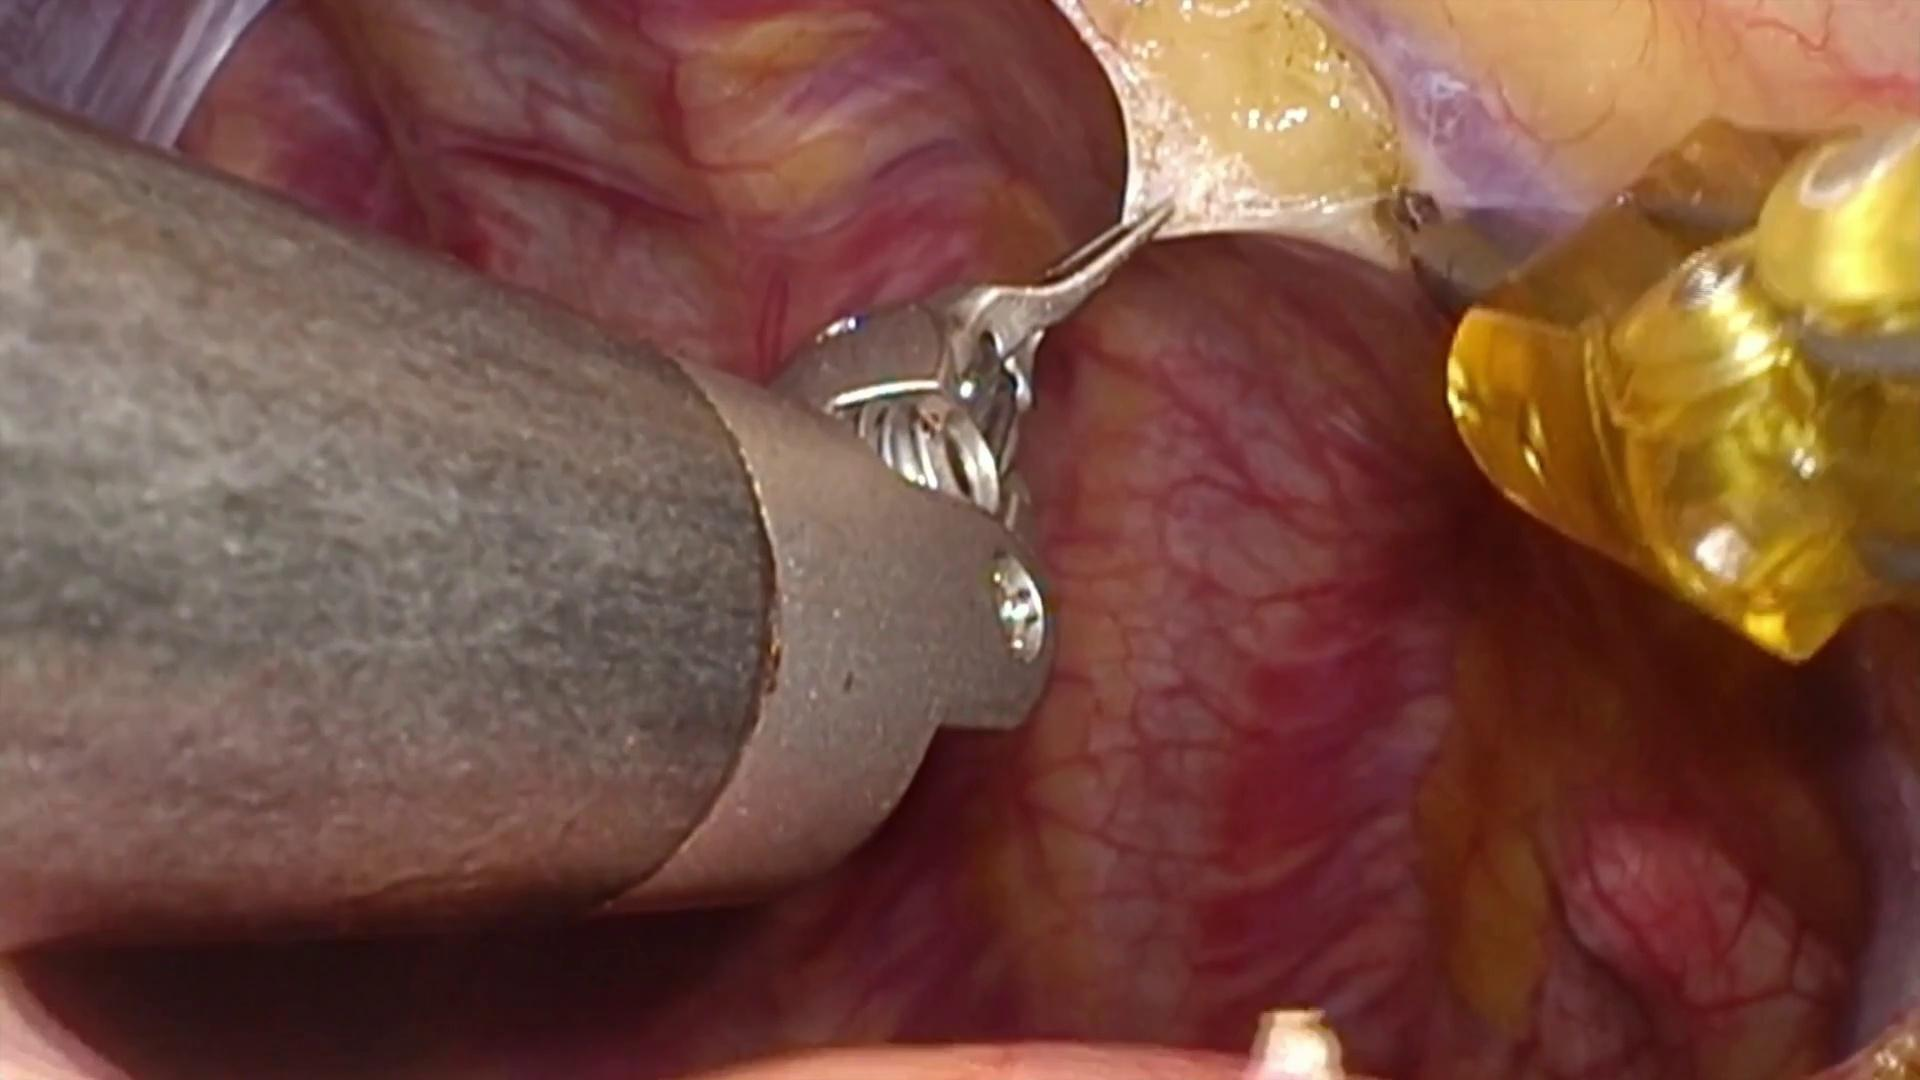Cautery_Spatula: (1375, 169, 1565, 319), (1375, 169, 1461, 245)
Debakey: (938, 195, 1179, 380)
